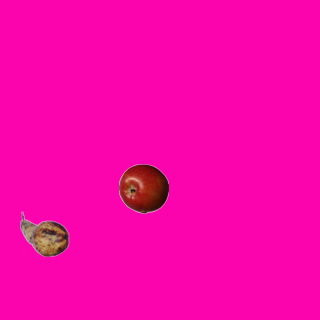Apple Braeburn: (118, 163, 168, 213)
Pear Abate: (19, 209, 69, 259)
